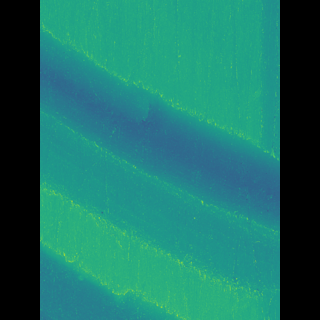Loch: (69, 23, 250, 242), (70, 244, 177, 319)
